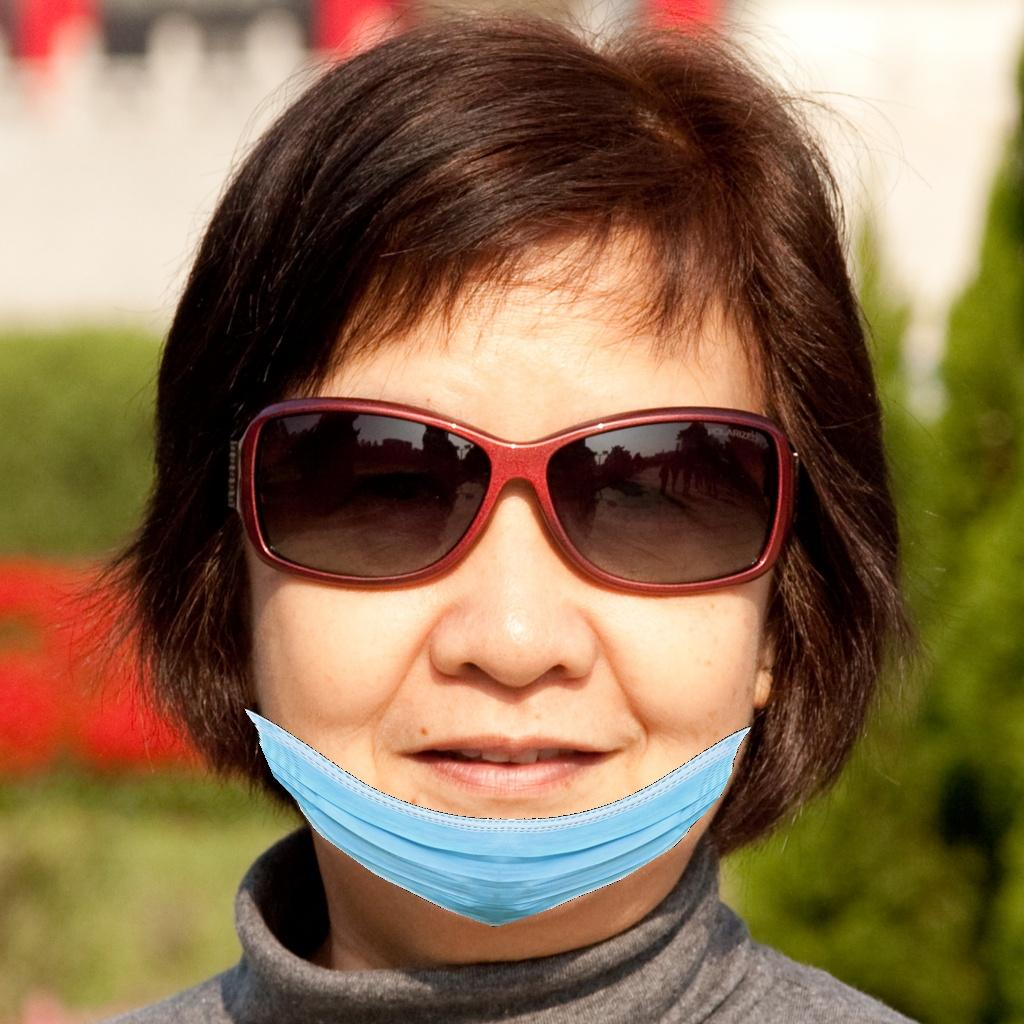Máscara Incorreta: (218, 347, 784, 916)
